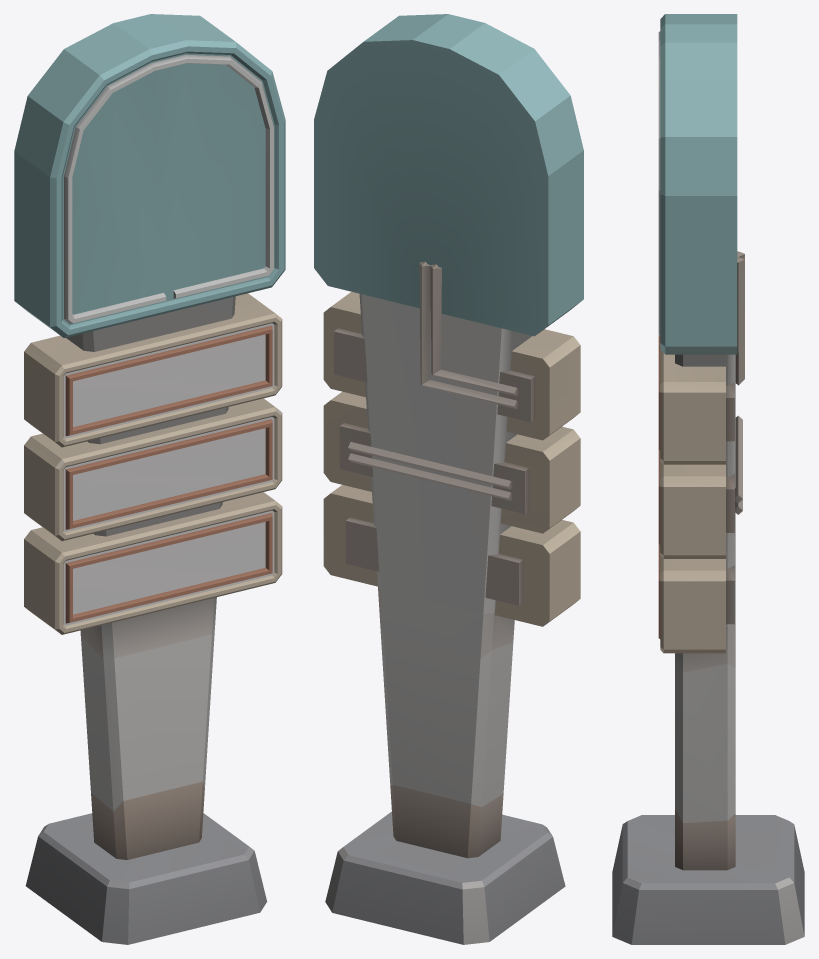
Rendered from pylon.glb.
3 renders of one model, left to right at view 1: azimuth 30°, elevation 25°; view 2: azimuth 150°, elevation 25°; view 3: azimuth 270°, elevation 25°, orthographic.
Visible parts, largest first — view 1: pylon; view 2: pylon; view 3: pylon.
Part boxes in pixels (box(x1,y1,x2,y2)): pylon: box(14, 14, 285, 944); pylon: box(314, 14, 583, 944); pylon: box(612, 14, 804, 944).
Bounding box in the file's own units: 1.71 × 6 × 1.2.
